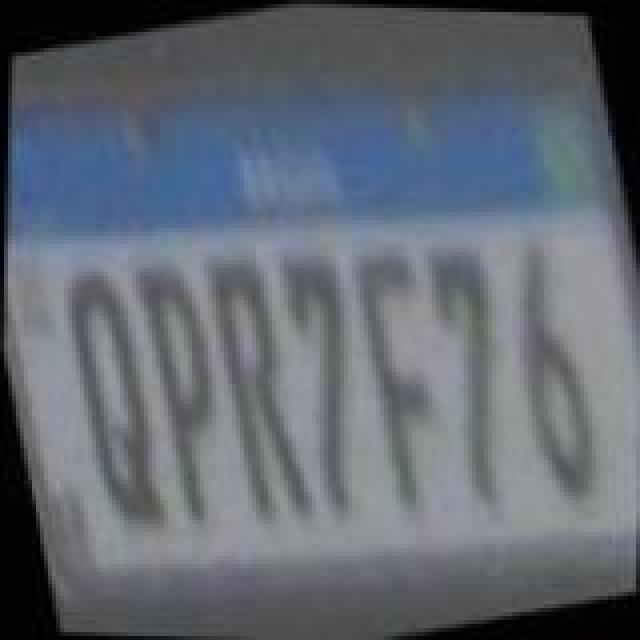6: (478, 224, 610, 512)
7: (262, 240, 394, 524), (408, 242, 536, 510)
F: (334, 232, 466, 512)
P: (118, 250, 250, 530)
Q: (46, 248, 178, 536)
R: (188, 244, 324, 532)
